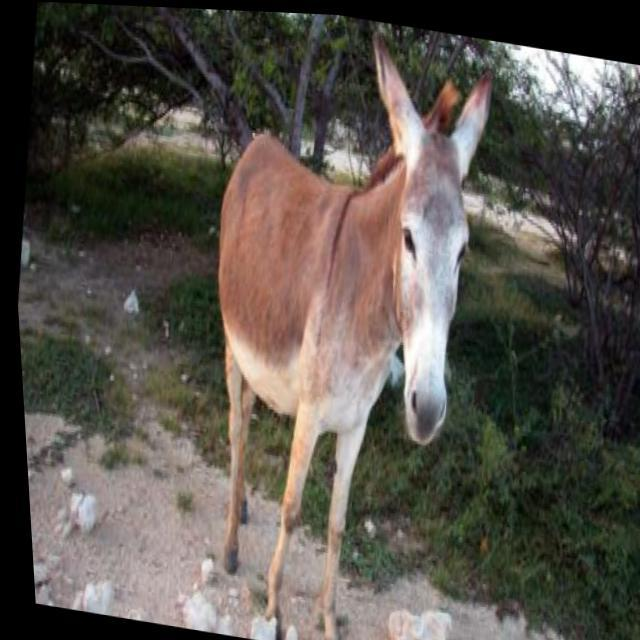Donkey: (156, 5, 522, 640)
